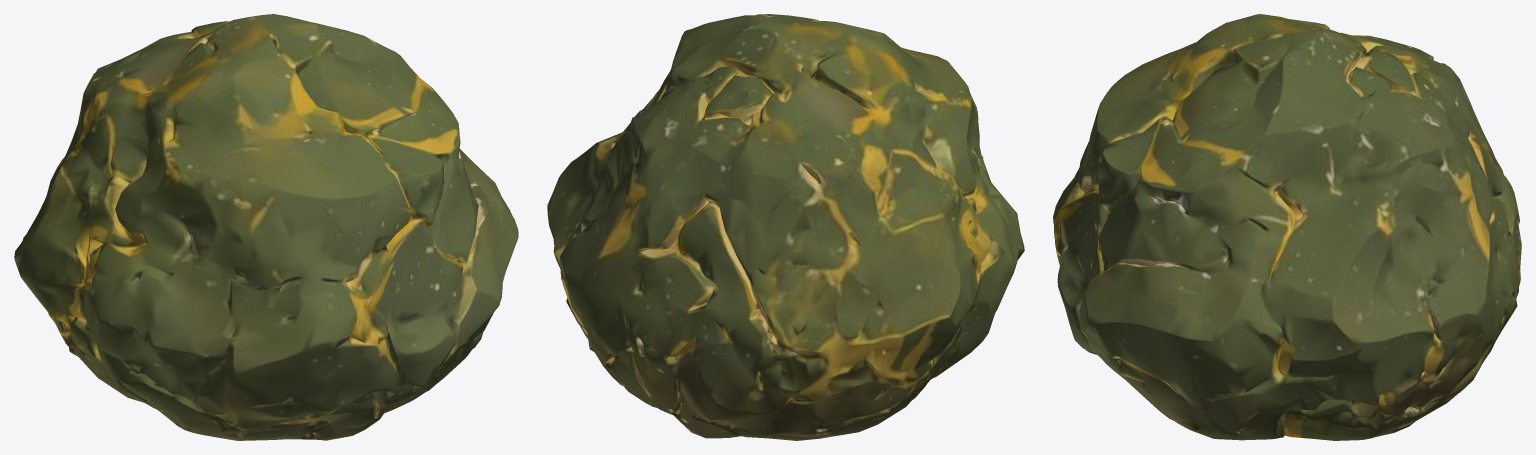
File: oreChunk.glb
The picture shows the model from 3 angles, left to right: view 1: azimuth 30°, elevation 25°; view 2: azimuth 150°, elevation 25°; view 3: azimuth 270°, elevation 25°; orthographic projection.
Parts seen in each view (by area): view 1: tripo_node_43090644-40a6-409c-8c33-31154f9bc07b; view 2: tripo_node_43090644-40a6-409c-8c33-31154f9bc07b; view 3: tripo_node_43090644-40a6-409c-8c33-31154f9bc07b.
Boxes of the visible parts, x1=… form: tripo_node_43090644-40a6-409c-8c33-31154f9bc07b: x1=14, y1=14, x2=518, y2=440; tripo_node_43090644-40a6-409c-8c33-31154f9bc07b: x1=547, y1=14, x2=1024, y2=440; tripo_node_43090644-40a6-409c-8c33-31154f9bc07b: x1=1053, y1=14, x2=1521, y2=440.
Size of the model in its own units: 1.16 by 1 by 1.13.
Materials: 1 (1 with a texture image).
